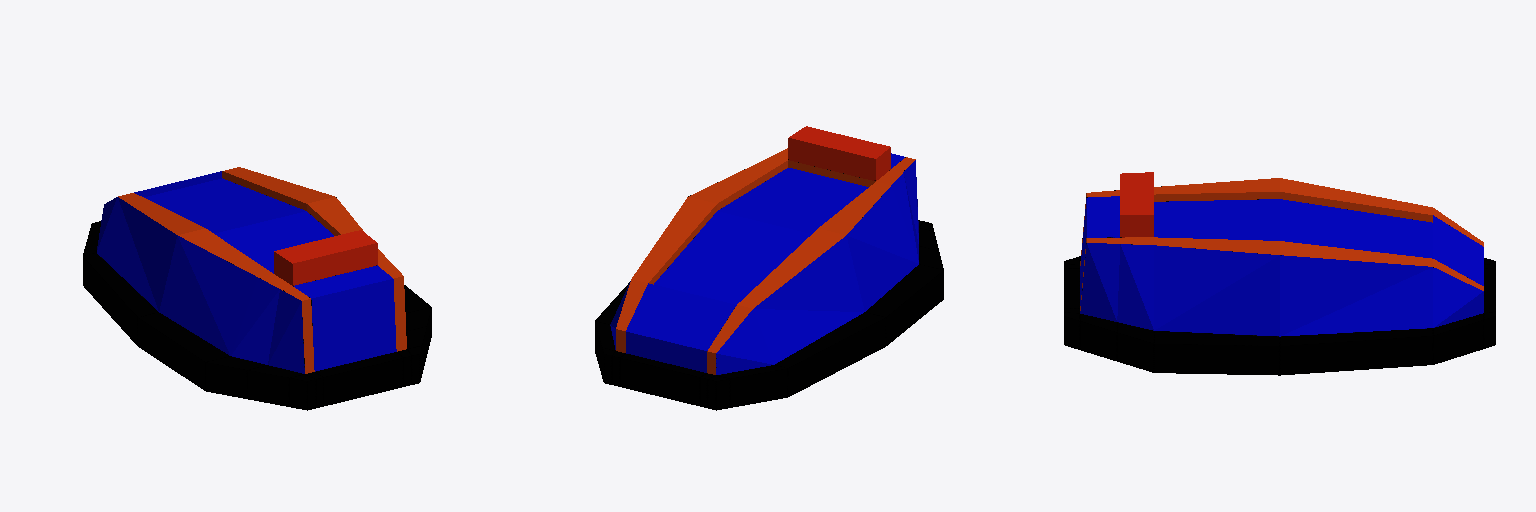
3 renders of one model, left to right at view 1: azimuth 30°, elevation 25°; view 2: azimuth 150°, elevation 25°; view 3: azimuth 270°, elevation 25°, orthographic.
Parts seen in each view (by area): view 1: Cube.003; view 2: Cube.003; view 3: Cube.003.
Boxes of the visible parts, box(x1,y1,x2,y2) form: Cube.003: box(83, 167, 431, 410); Cube.003: box(595, 126, 943, 410); Cube.003: box(1064, 172, 1495, 375).
Bounding box in the file's own units: 5.35 × 2.67 × 8.46.
1 materials, 1 textured.